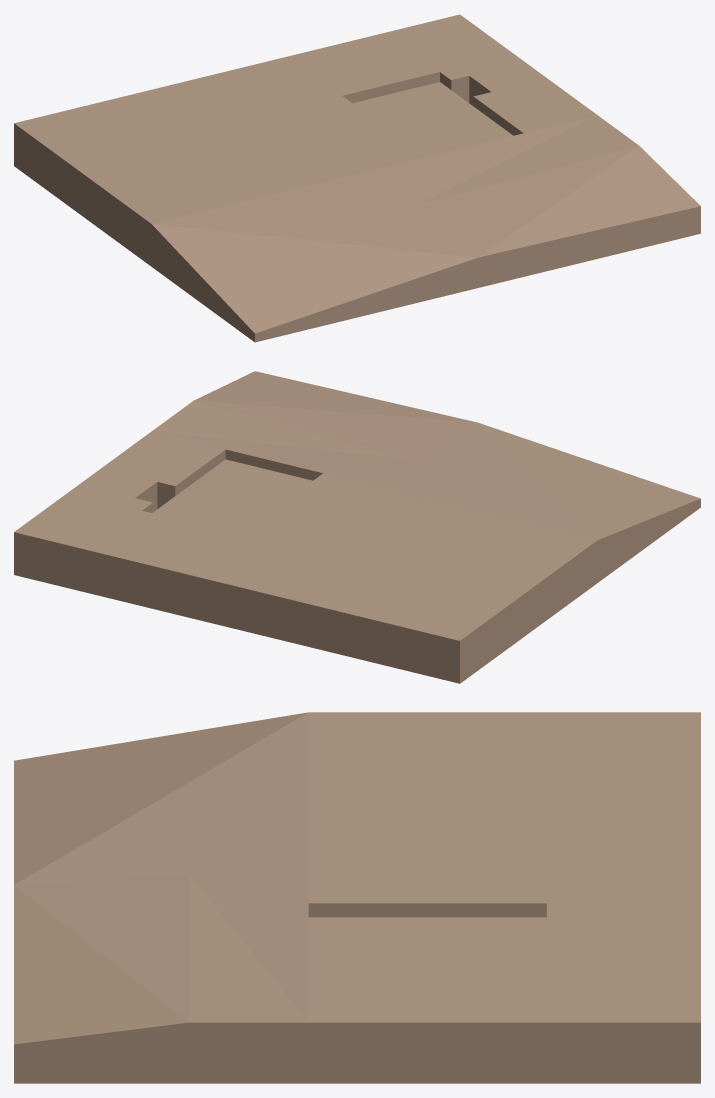
The picture shows the model from 3 angles, top to bottom: view 1: azimuth 30°, elevation 25°; view 2: azimuth 150°, elevation 25°; view 3: azimuth 270°, elevation 25°; orthographic projection. The views are drawn at different scales.
Visible parts, largest first — view 1: 25UM9NEdzEtx9XwQRujKzI; view 2: 25UM9NEdzEtx9XwQRujKzI; view 3: 25UM9NEdzEtx9XwQRujKzI.
Boxes of the visible parts, box(x1,y1,x2,y2) form: 25UM9NEdzEtx9XwQRujKzI: box(14, 14, 700, 342); 25UM9NEdzEtx9XwQRujKzI: box(14, 371, 700, 683); 25UM9NEdzEtx9XwQRujKzI: box(14, 712, 700, 1083).
Size of the model in its own units: 142 by 13 by 133.
